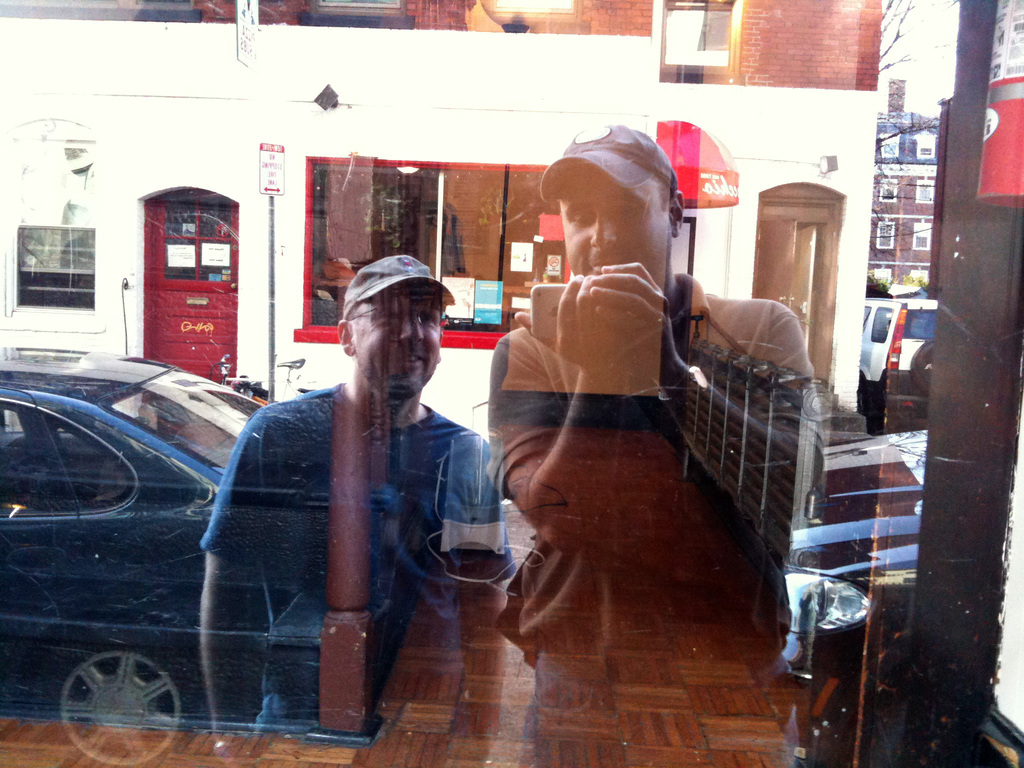Car: (0, 327, 311, 744)
